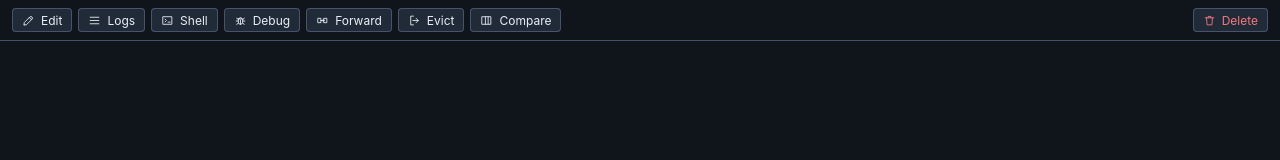
Scenario: deleting asks first, and names what it would delete
This screenshot has width=1280, height=160.
Step 1. Click the button "Delete" → (1230, 20), box [1193,8,1268,32]
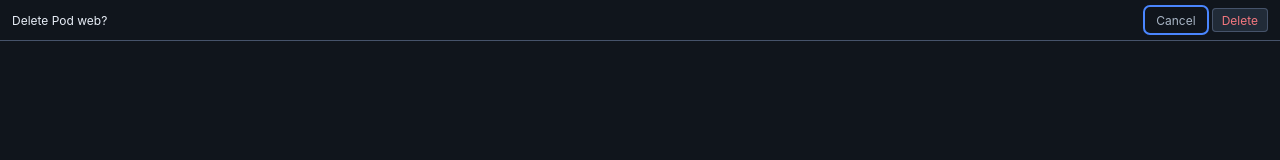
expect the text "Delete Pod web?" is shown: met, box [12,12,107,28]
